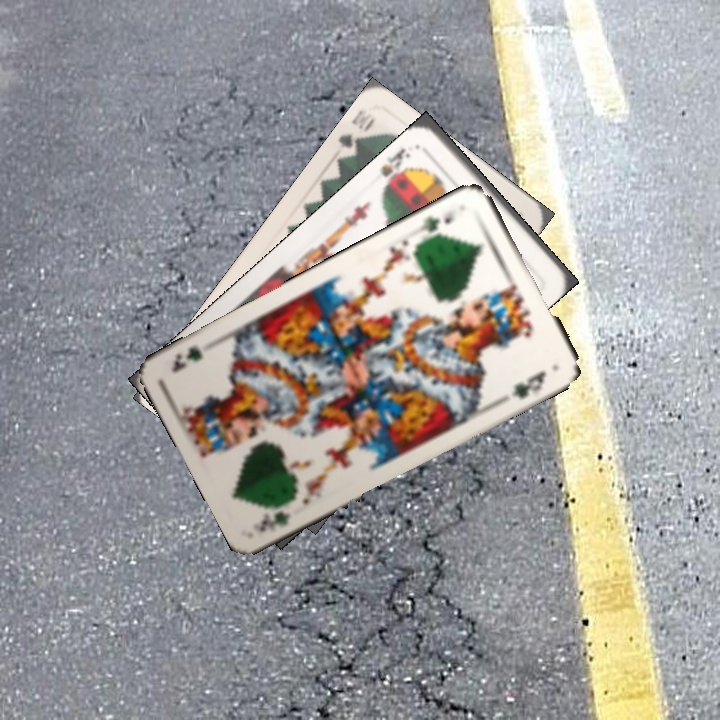G10: (334, 105, 378, 156)
GK: (416, 206, 458, 242), (255, 507, 294, 534)
SK: (376, 144, 415, 191)
